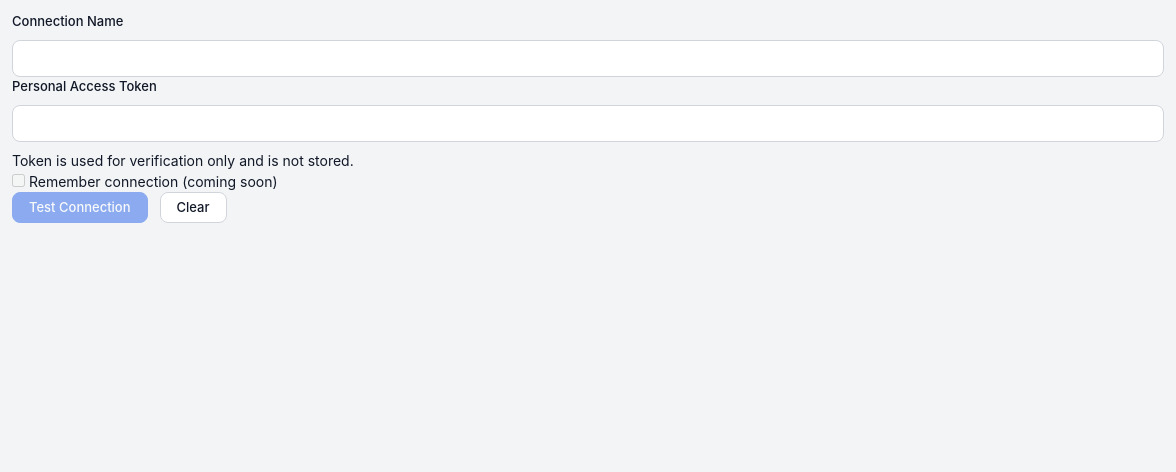
Test: ConnectionForm › shows connected status after successful check
Type "Test Connection" into the field labelled "Connection Name" at (588, 58), box [12,40,1164,77]
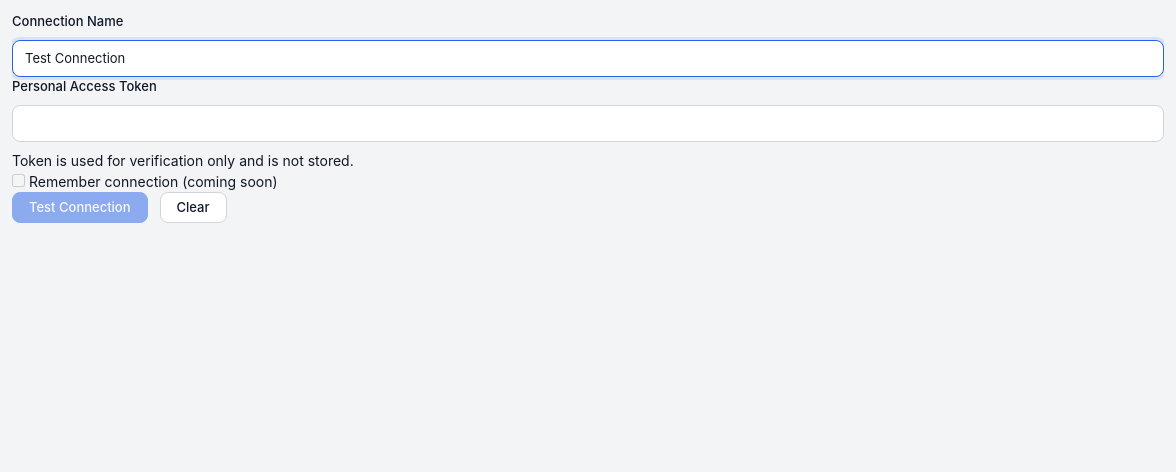
Type "example_valid_token_abcdefgh12345" into the password field labelled "Personal Access Token" at (588, 123), box [12,104,1164,142]
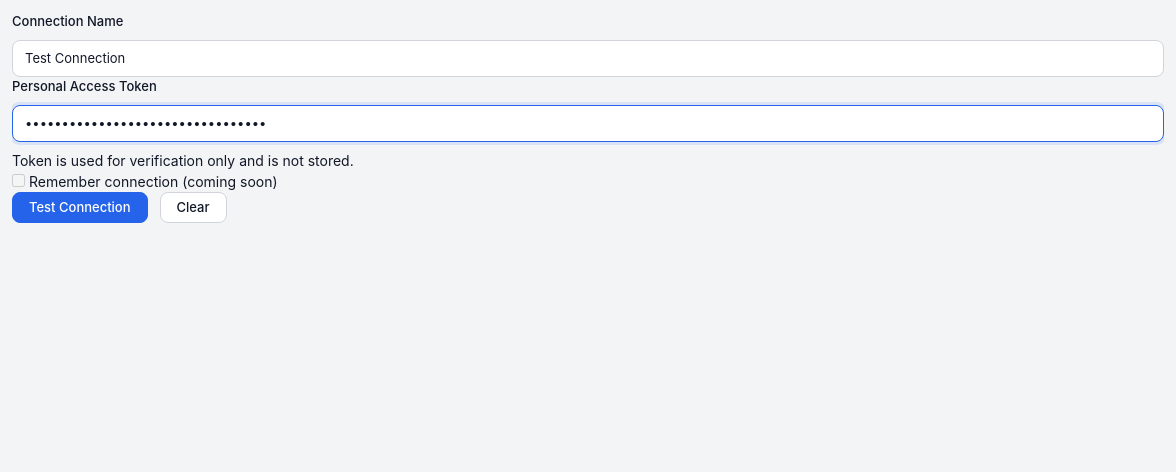
Click the button "Test Connection" at (80, 208), box [12,192,148,223]
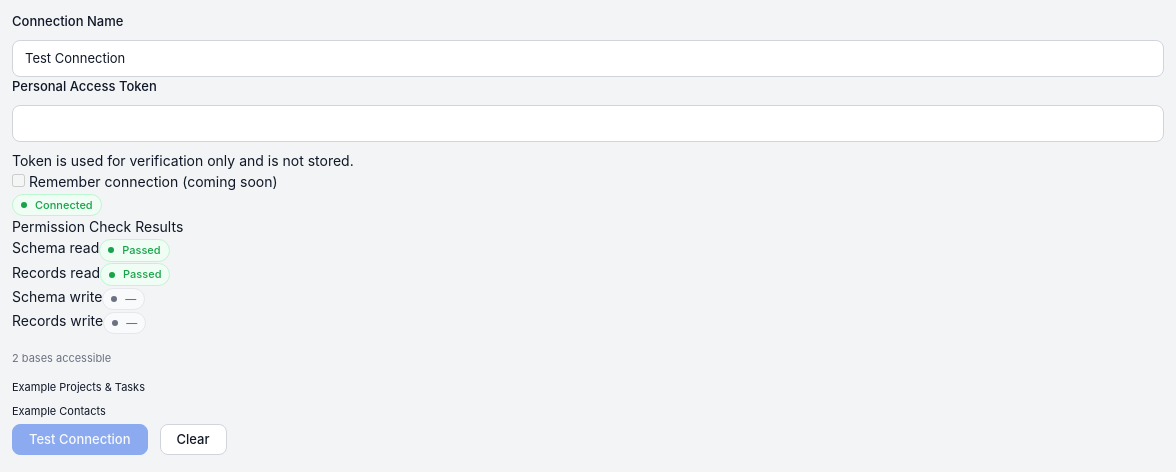
Now the text "Connected" is shown, box [12,194,102,216]
